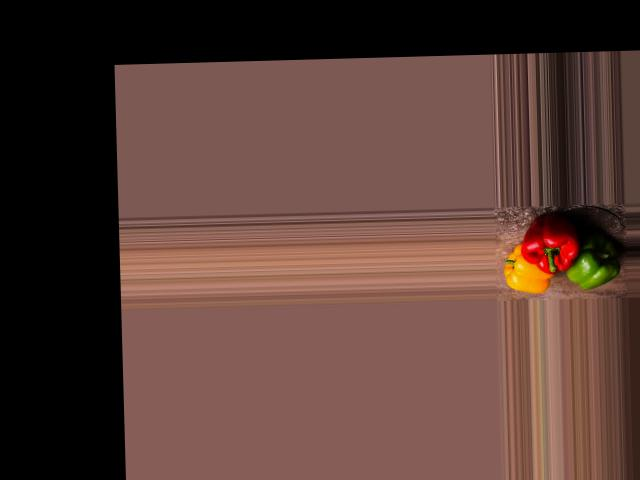bell_pepper: (503, 242, 551, 296)
